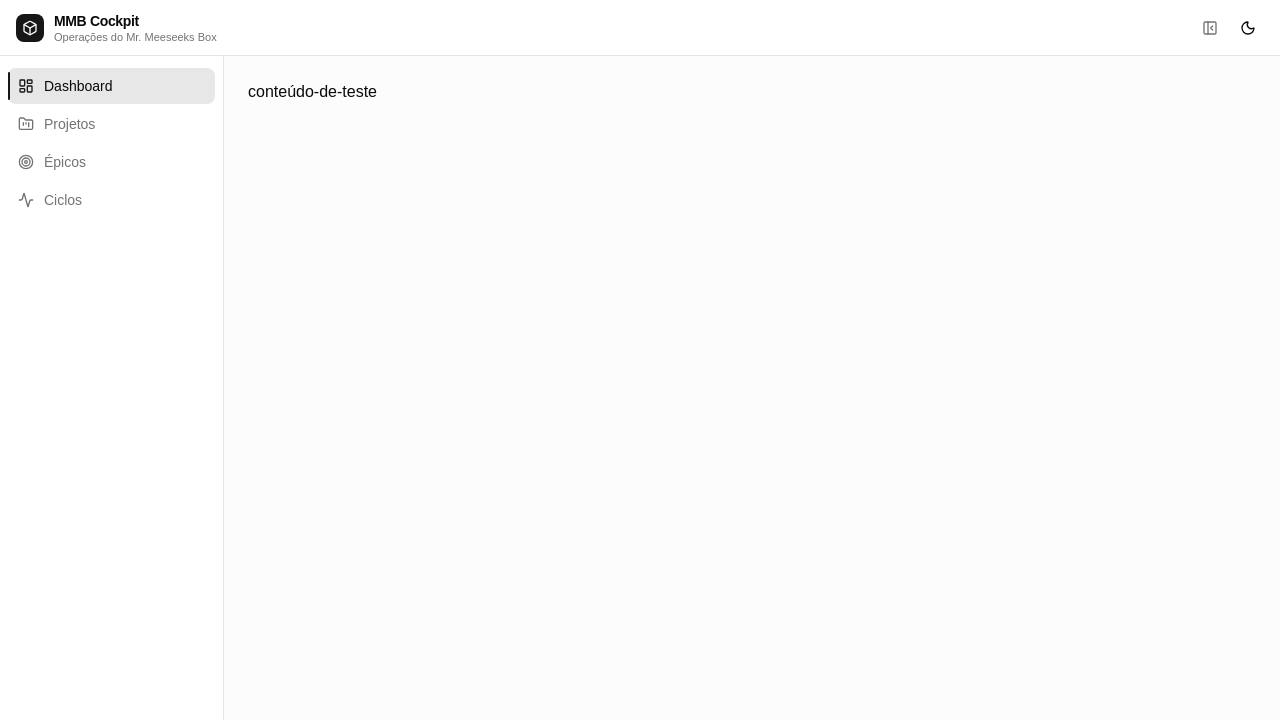
Test: Layout › toggle alterna sidebar entre expandido e recolhido
Click the button named "recolher sidebar".
click(1210, 28)  # box [1196,14,1224,42]
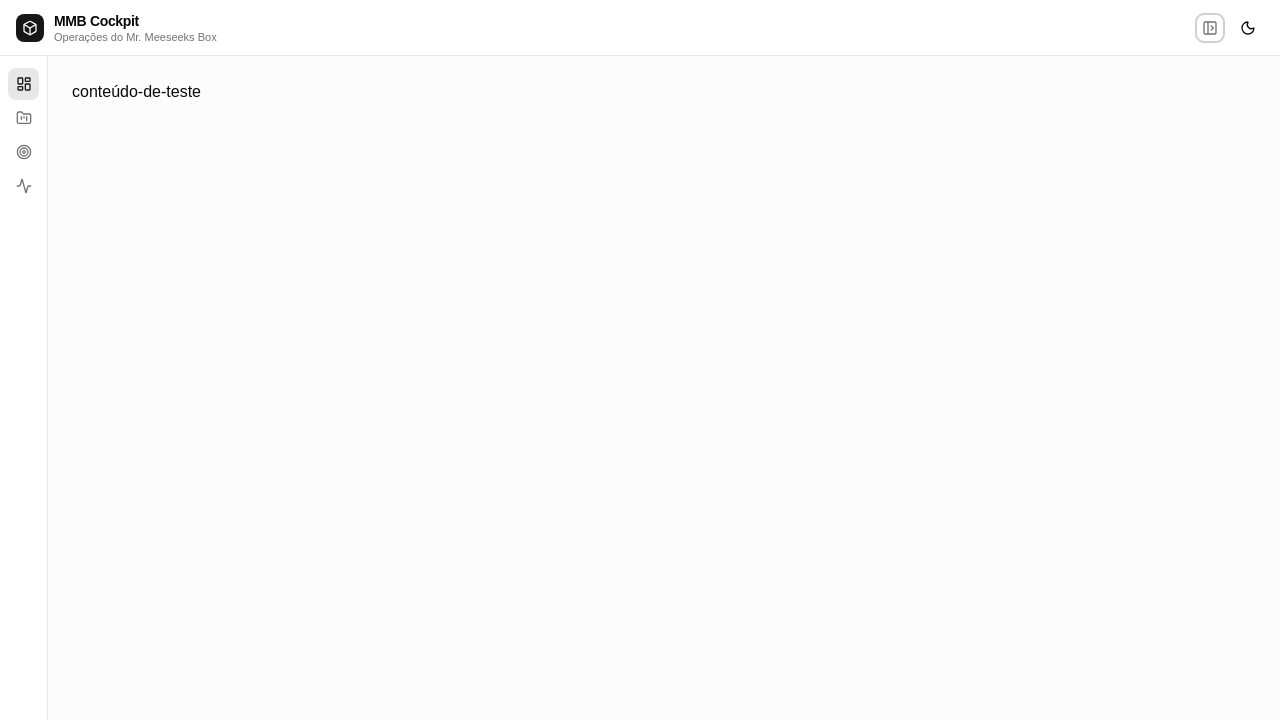
Expected: the button named "expandir sidebar" is shown, [1196,14,1224,42]
